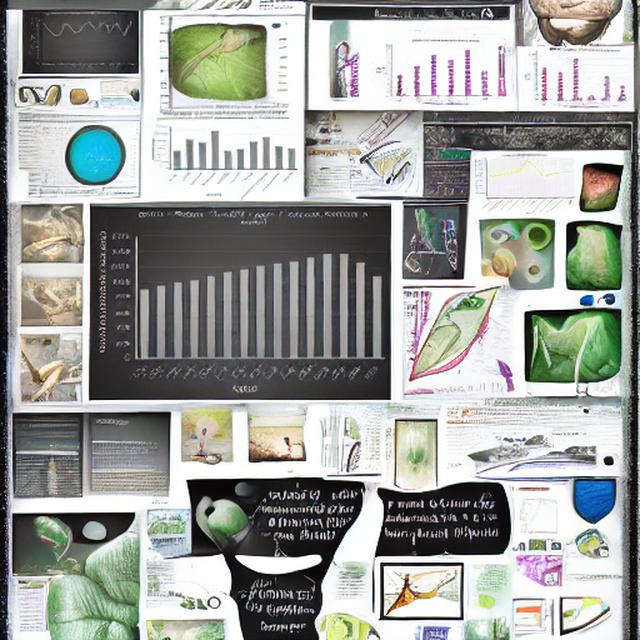Graph: (95, 207, 391, 400), (149, 110, 301, 200), (372, 36, 497, 108), (521, 47, 633, 110), (30, 10, 138, 74), (473, 153, 577, 215), (514, 496, 566, 535)
